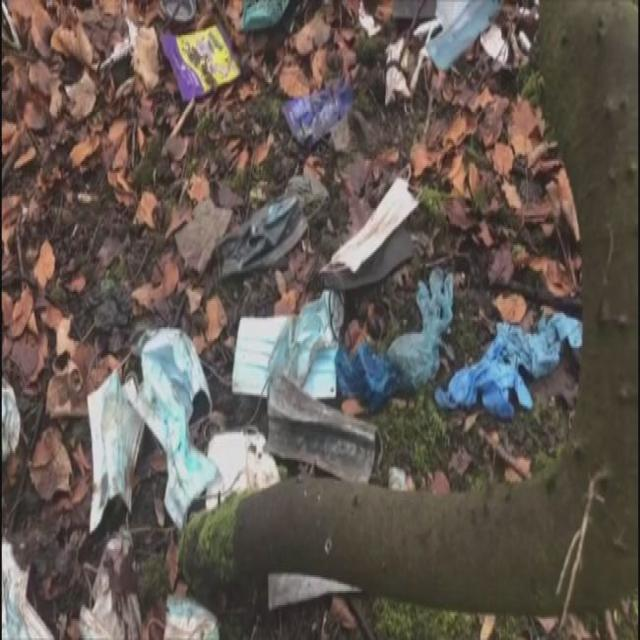non-organic waste: (121, 323, 210, 512), (232, 306, 344, 413)
